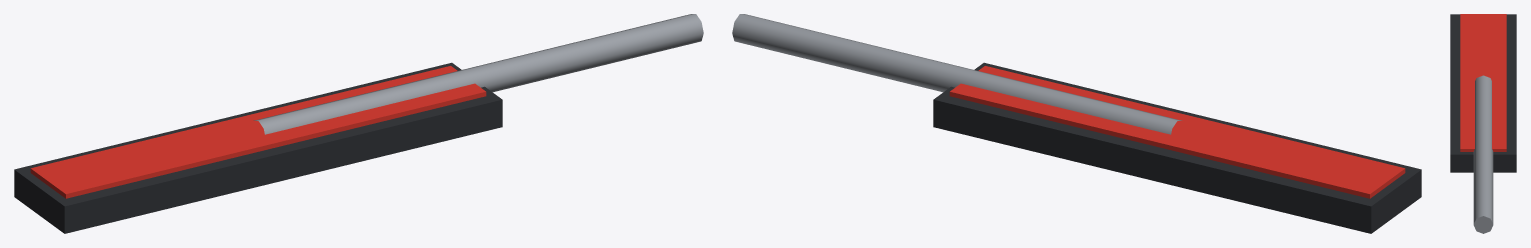
The model's file is tech_floor_conduit.glb.
3 views of the same model, side by side, from view 1: azimuth 30°, elevation 25°; view 2: azimuth 150°, elevation 25°; view 3: azimuth 270°, elevation 25° (orthographic). The views are drawn at different scales.
Visible parts, largest first — view 1: sw5e_int_tech_floor_conduit; view 2: sw5e_int_tech_floor_conduit; view 3: sw5e_int_tech_floor_conduit.
Boxes of the visible parts, bbox=[...] form: sw5e_int_tech_floor_conduit: bbox=[14, 14, 703, 233]; sw5e_int_tech_floor_conduit: bbox=[732, 14, 1421, 233]; sw5e_int_tech_floor_conduit: bbox=[1450, 14, 1516, 233].
Bounding box in the file's own units: 3 × 0.18 × 0.4.
